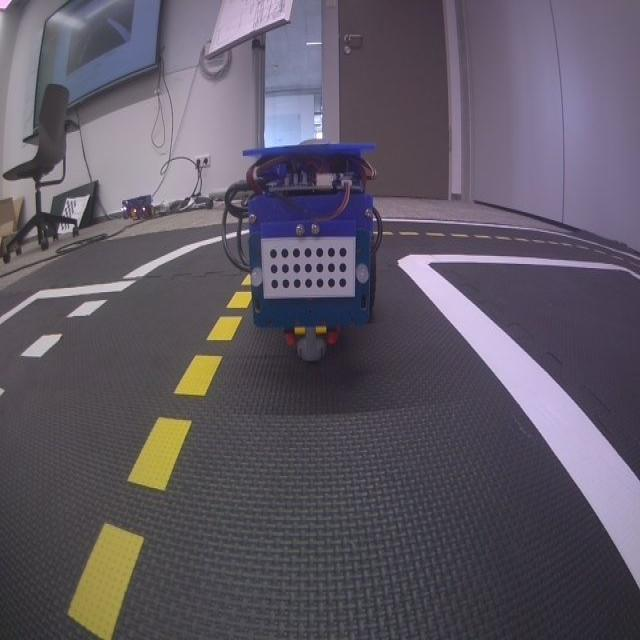bot: (244, 138, 384, 370)
park: (0, 281, 136, 396)
